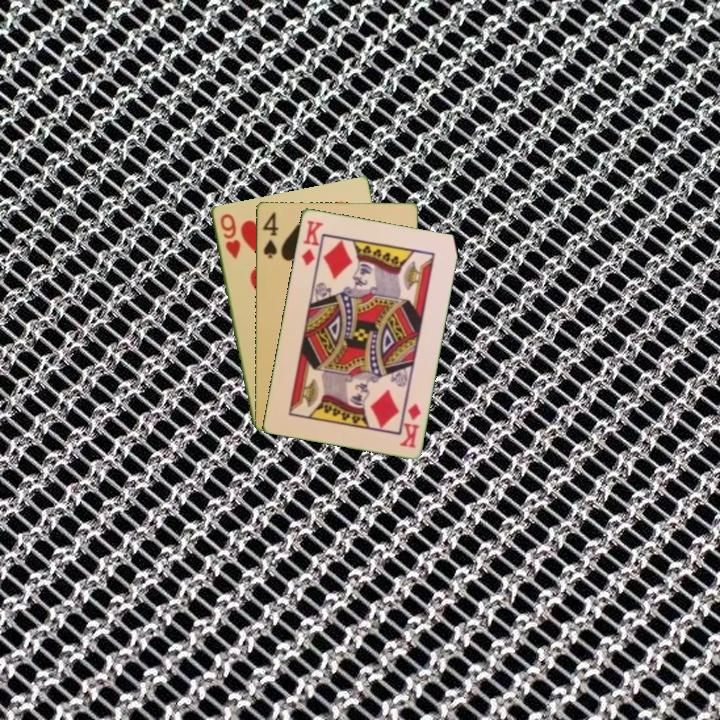4s: (259, 208, 281, 261)
9h: (216, 210, 243, 262)
Kd: (298, 216, 326, 268), (396, 399, 423, 450)
